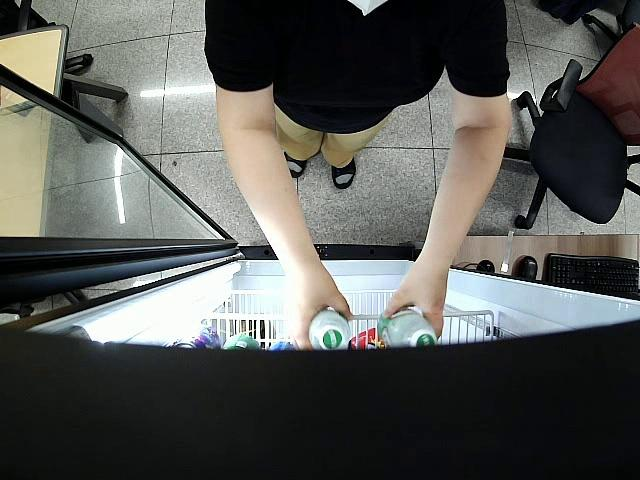00_hand: (381, 269, 449, 349), (280, 274, 350, 350)
18_trevi: (384, 301, 436, 351), (304, 307, 349, 351)
